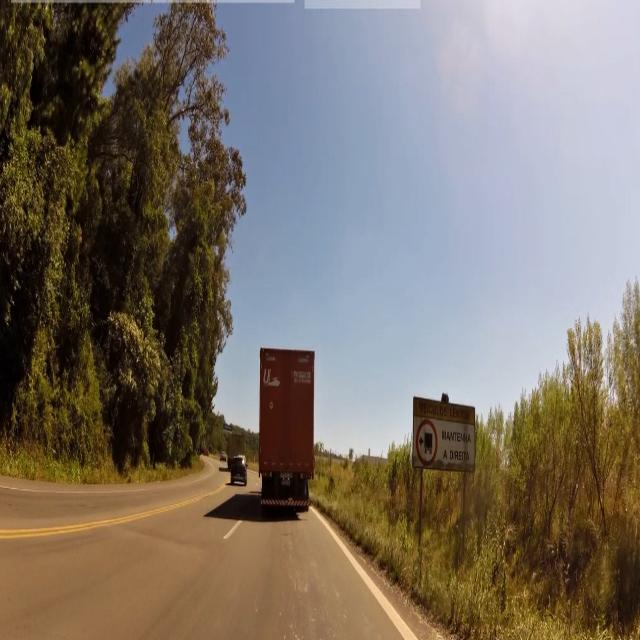R-27: (416, 416, 437, 470)
